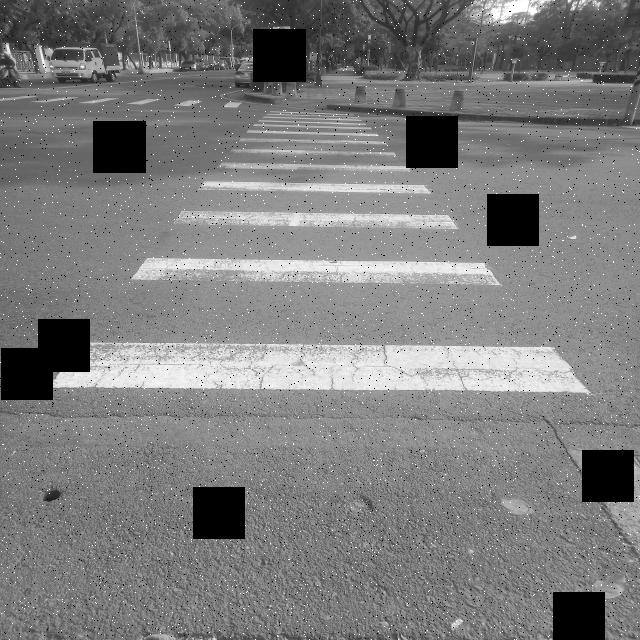zebra_crossing: (112, 58, 355, 159), (241, 0, 293, 302)
